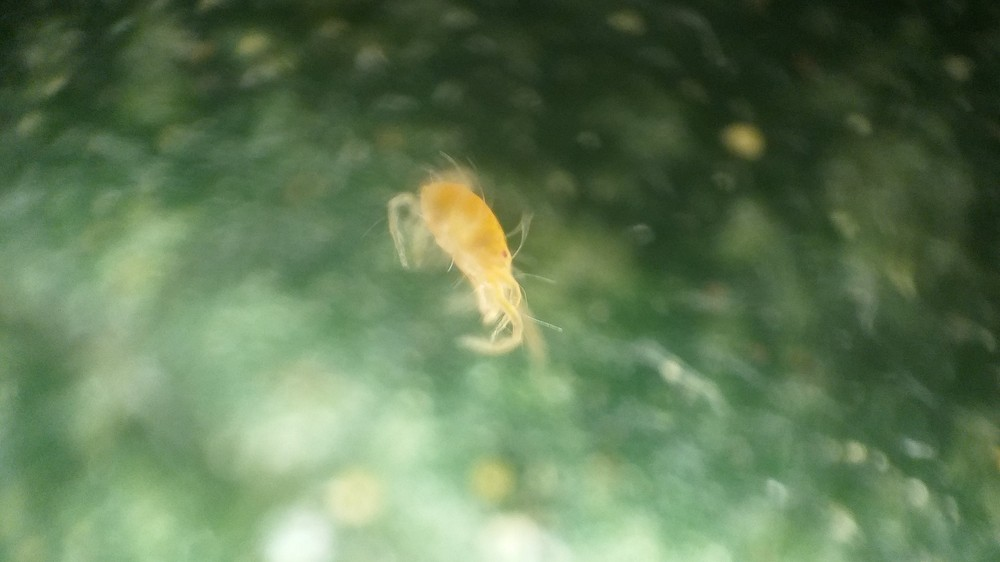Aracnido Rojo: (358, 139, 580, 389)
